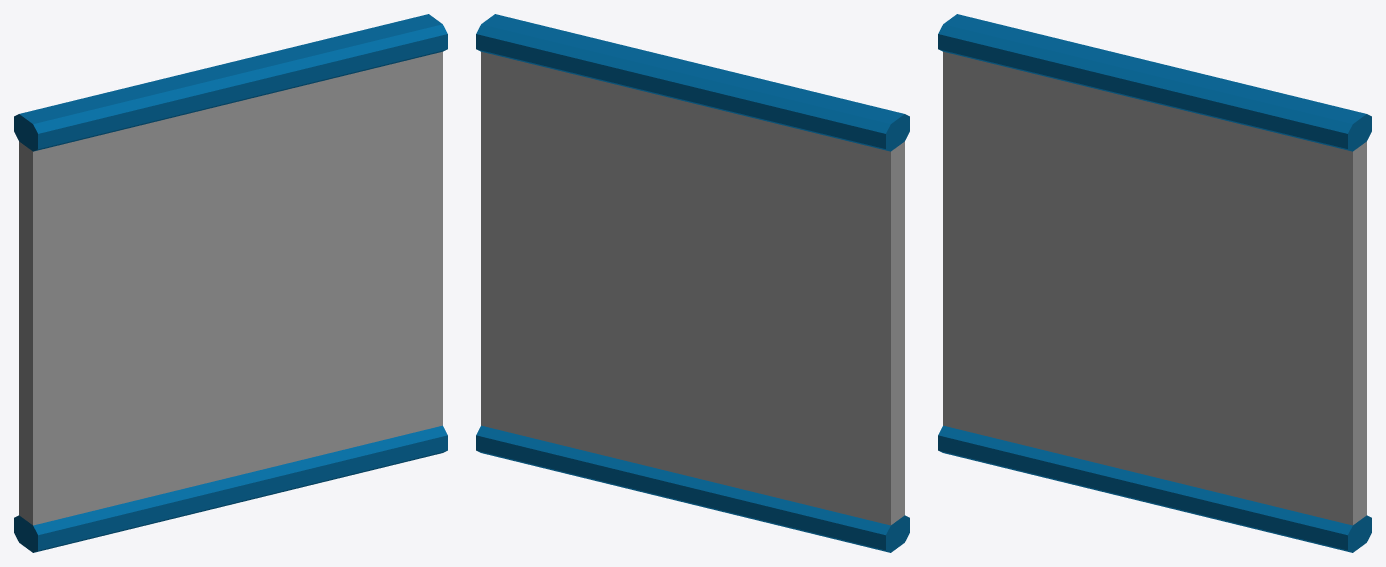
File: BrickWall.fbx
3 views of the same model, side by side, from view 1: azimuth 30°, elevation 25°; view 2: azimuth 150°, elevation 25°; view 3: azimuth 330°, elevation 25° (orthographic).
Parts seen in each view (by area): view 1: BrickWall; view 2: BrickWall; view 3: BrickWall.
Part boxes in pixels (left/top/right/bottom): BrickWall: left=14, top=14, right=447, bottom=552; BrickWall: left=476, top=14, right=909, bottom=552; BrickWall: left=938, top=14, right=1371, bottom=552.
Size of the model in its own units: 400 by 400 by 40.52.
